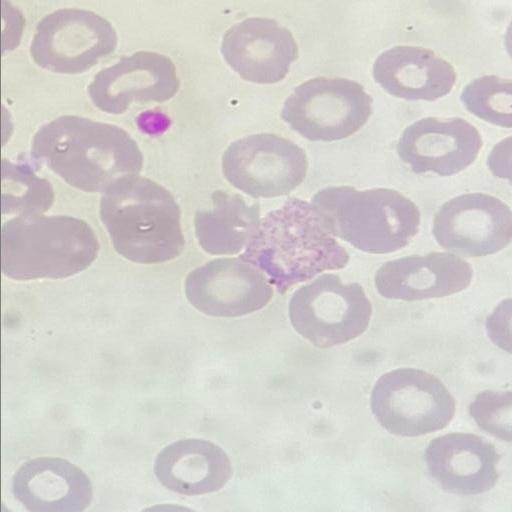Infected: (242, 197, 345, 289)
Uninfected: (34, 115, 140, 192), (100, 177, 183, 261), (2, 214, 96, 280), (287, 276, 370, 349), (281, 76, 372, 142), (221, 133, 310, 200), (370, 368, 453, 437), (90, 50, 179, 114), (30, 6, 115, 71), (185, 258, 274, 318), (220, 16, 297, 83), (434, 191, 510, 256), (344, 188, 421, 252), (397, 116, 479, 176), (377, 250, 473, 301), (371, 44, 455, 100), (424, 431, 497, 492), (155, 438, 230, 495), (12, 456, 91, 510), (195, 190, 255, 255), (312, 185, 367, 232)
